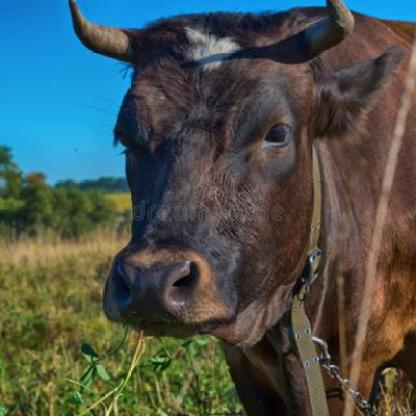lower: (130, 322, 218, 334)
mouth: (102, 247, 240, 336)
upper: (113, 260, 202, 318)
